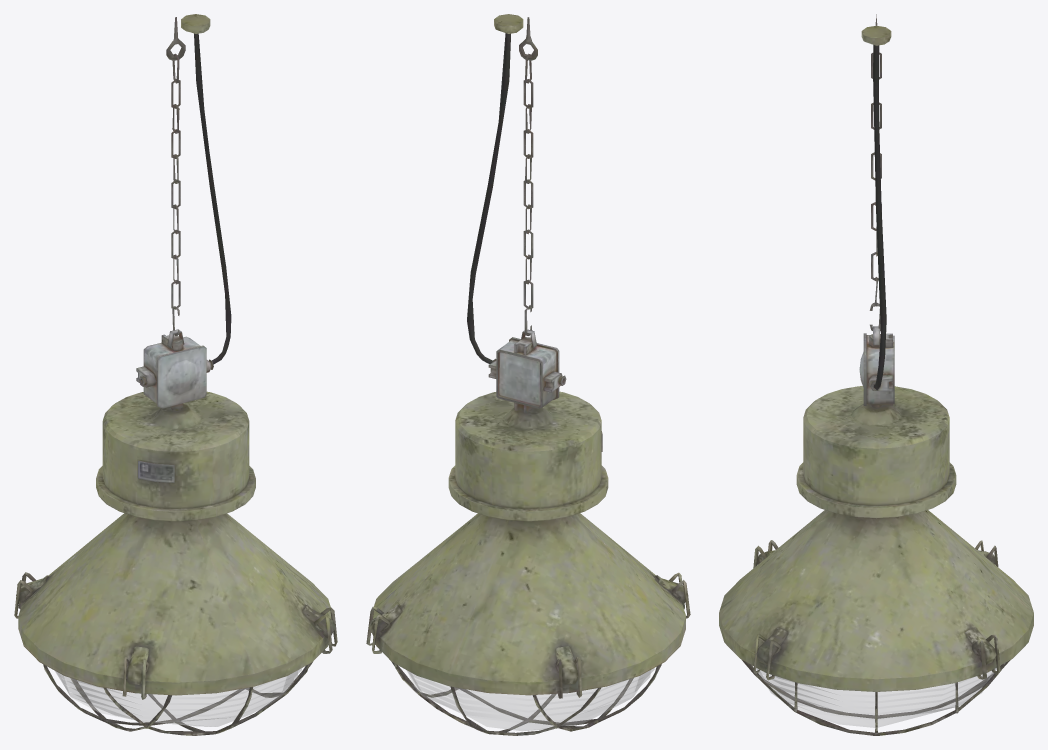
Rendered from pendant.glb.
3 renders of one model, left to right at view 1: azimuth 30°, elevation 25°; view 2: azimuth 150°, elevation 25°; view 3: azimuth 270°, elevation 25°, orthographic.
Parts seen in each view (by area): view 1: hanging_industrial_lamp; view 2: hanging_industrial_lamp; view 3: hanging_industrial_lamp.
Boxes of the visible parts, x1,y1,x2,y2 form: hanging_industrial_lamp: (14,14,337,735); hanging_industrial_lamp: (366,14,690,735); hanging_industrial_lamp: (719,14,1033,735).
Bounding box in the file's own units: 0.5497 × 1.36 × 0.5497.
2 materials, 1 textured.
